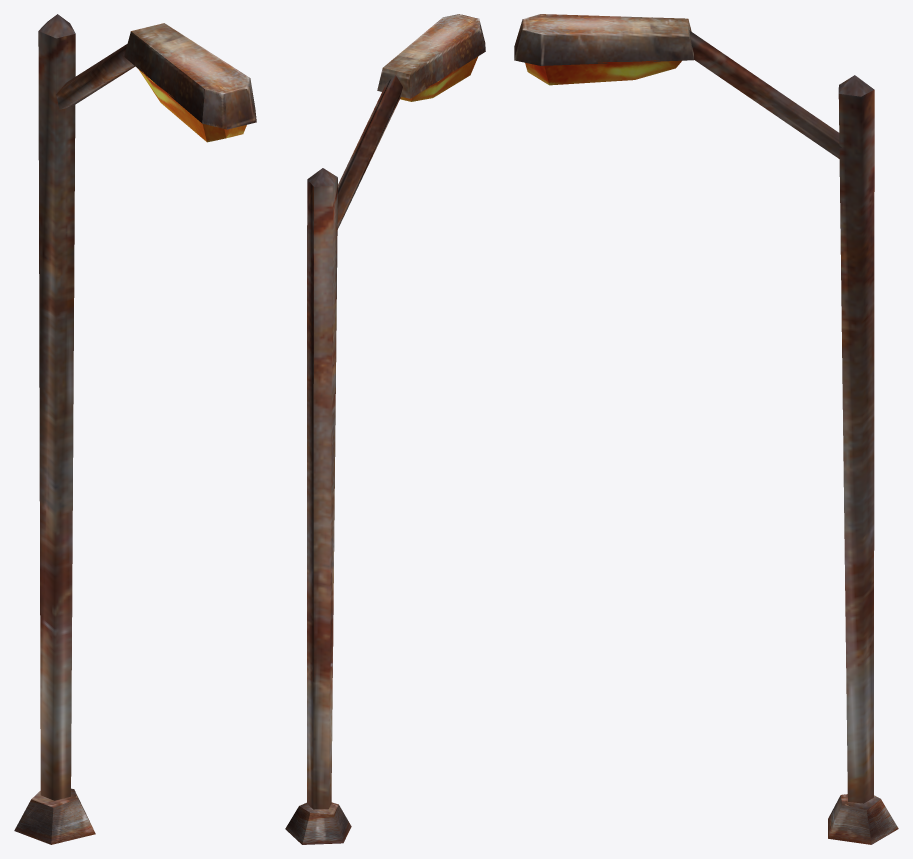
File: PoleLight.fbx
3 views of the same model, side by side, from view 1: azimuth 30°, elevation 25°; view 2: azimuth 150°, elevation 25°; view 3: azimuth 270°, elevation 25° (orthographic). The views are drawn at different scales.
Parts seen in each view (by area): view 1: PoleLight; view 2: PoleLight; view 3: PoleLight.
Part boxes in pixels (x1,y1,x2,y2): PoleLight: (14,14,256,844); PoleLight: (285,14,485,844); PoleLight: (514,14,898,844).
Bounding box in the file's own units: 55.82 × 647 × 280.
